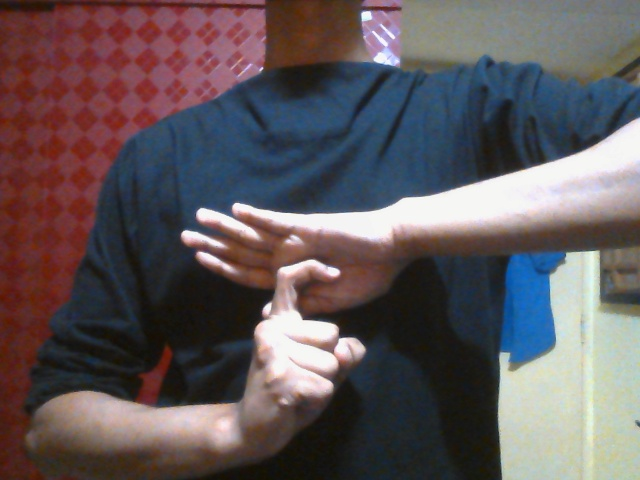R: (178, 200, 411, 458)
